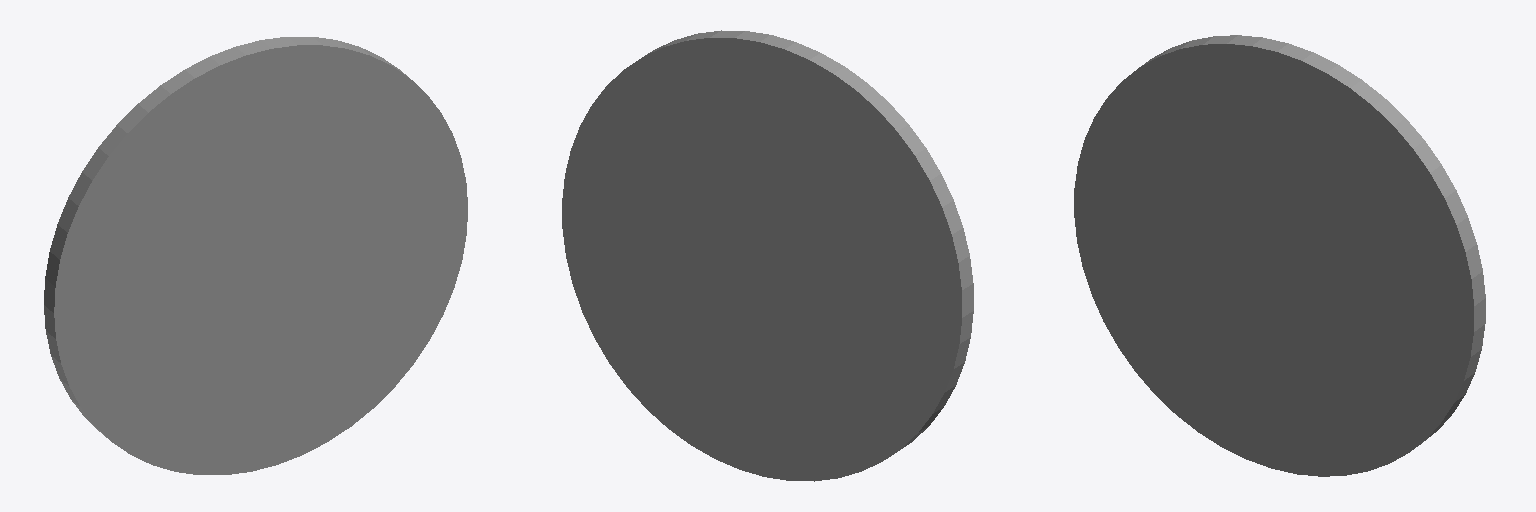
File: CoinNew.obj
3 views of the same model, side by side, from view 1: azimuth 30°, elevation 25°; view 2: azimuth 150°, elevation 25°; view 3: azimuth 330°, elevation 25° (orthographic).
Parts seen in each view (by area): view 1: pCylinder1_Untitled; view 2: pCylinder1_Untitled; view 3: pCylinder1_Untitled.
Part boxes in pixels (x1,y1,x2,y2): pCylinder1_Untitled: (44, 37, 467, 474); pCylinder1_Untitled: (562, 30, 973, 481); pCylinder1_Untitled: (1074, 35, 1485, 476).
Bounding box in the file's own units: 1.97 × 1.97 × 0.1783.